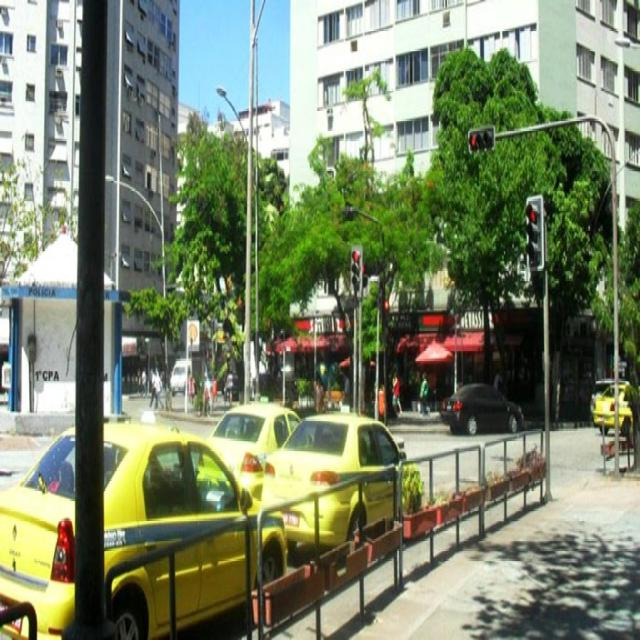car: (446, 377, 522, 437)
